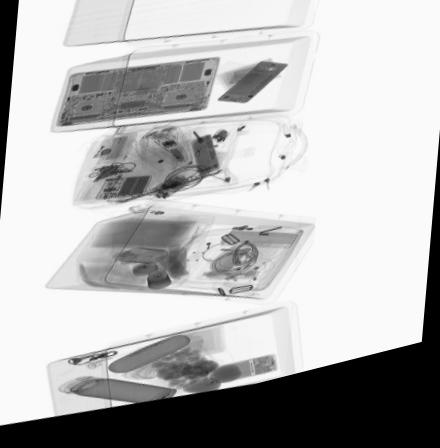Lighter: (88, 140, 117, 164)
